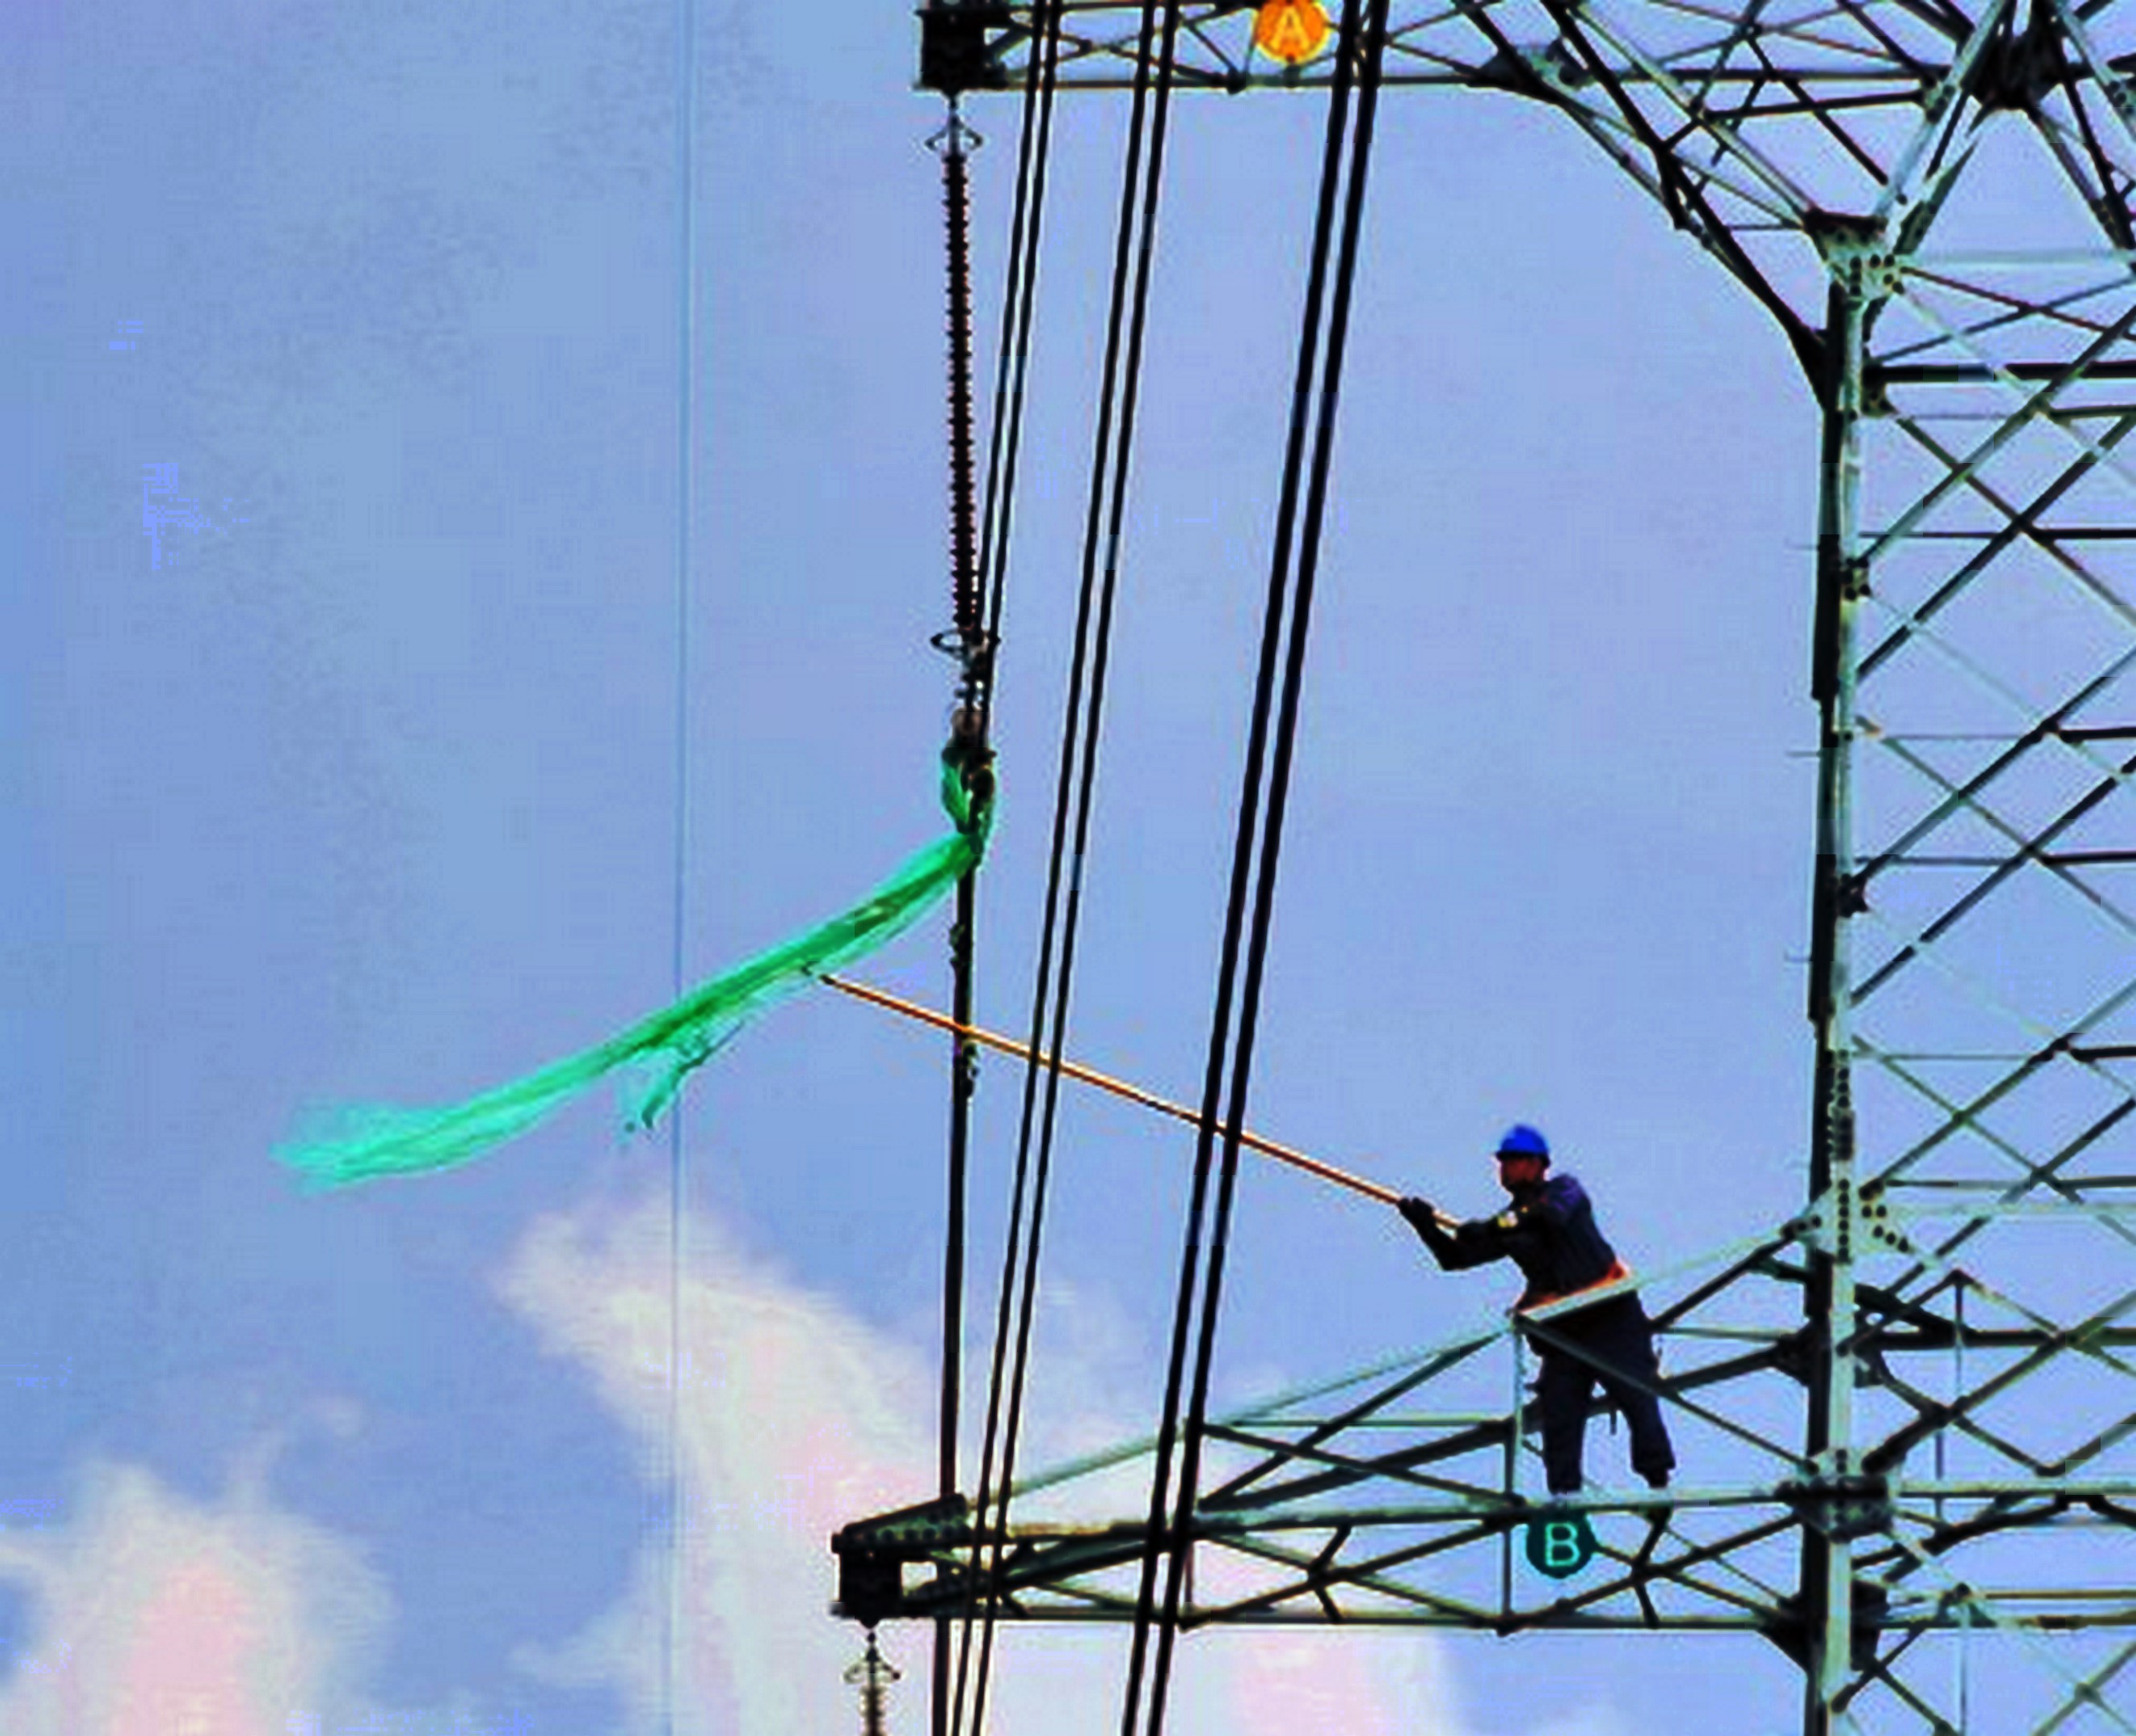wire foreign body: (234, 739, 1010, 1224)
